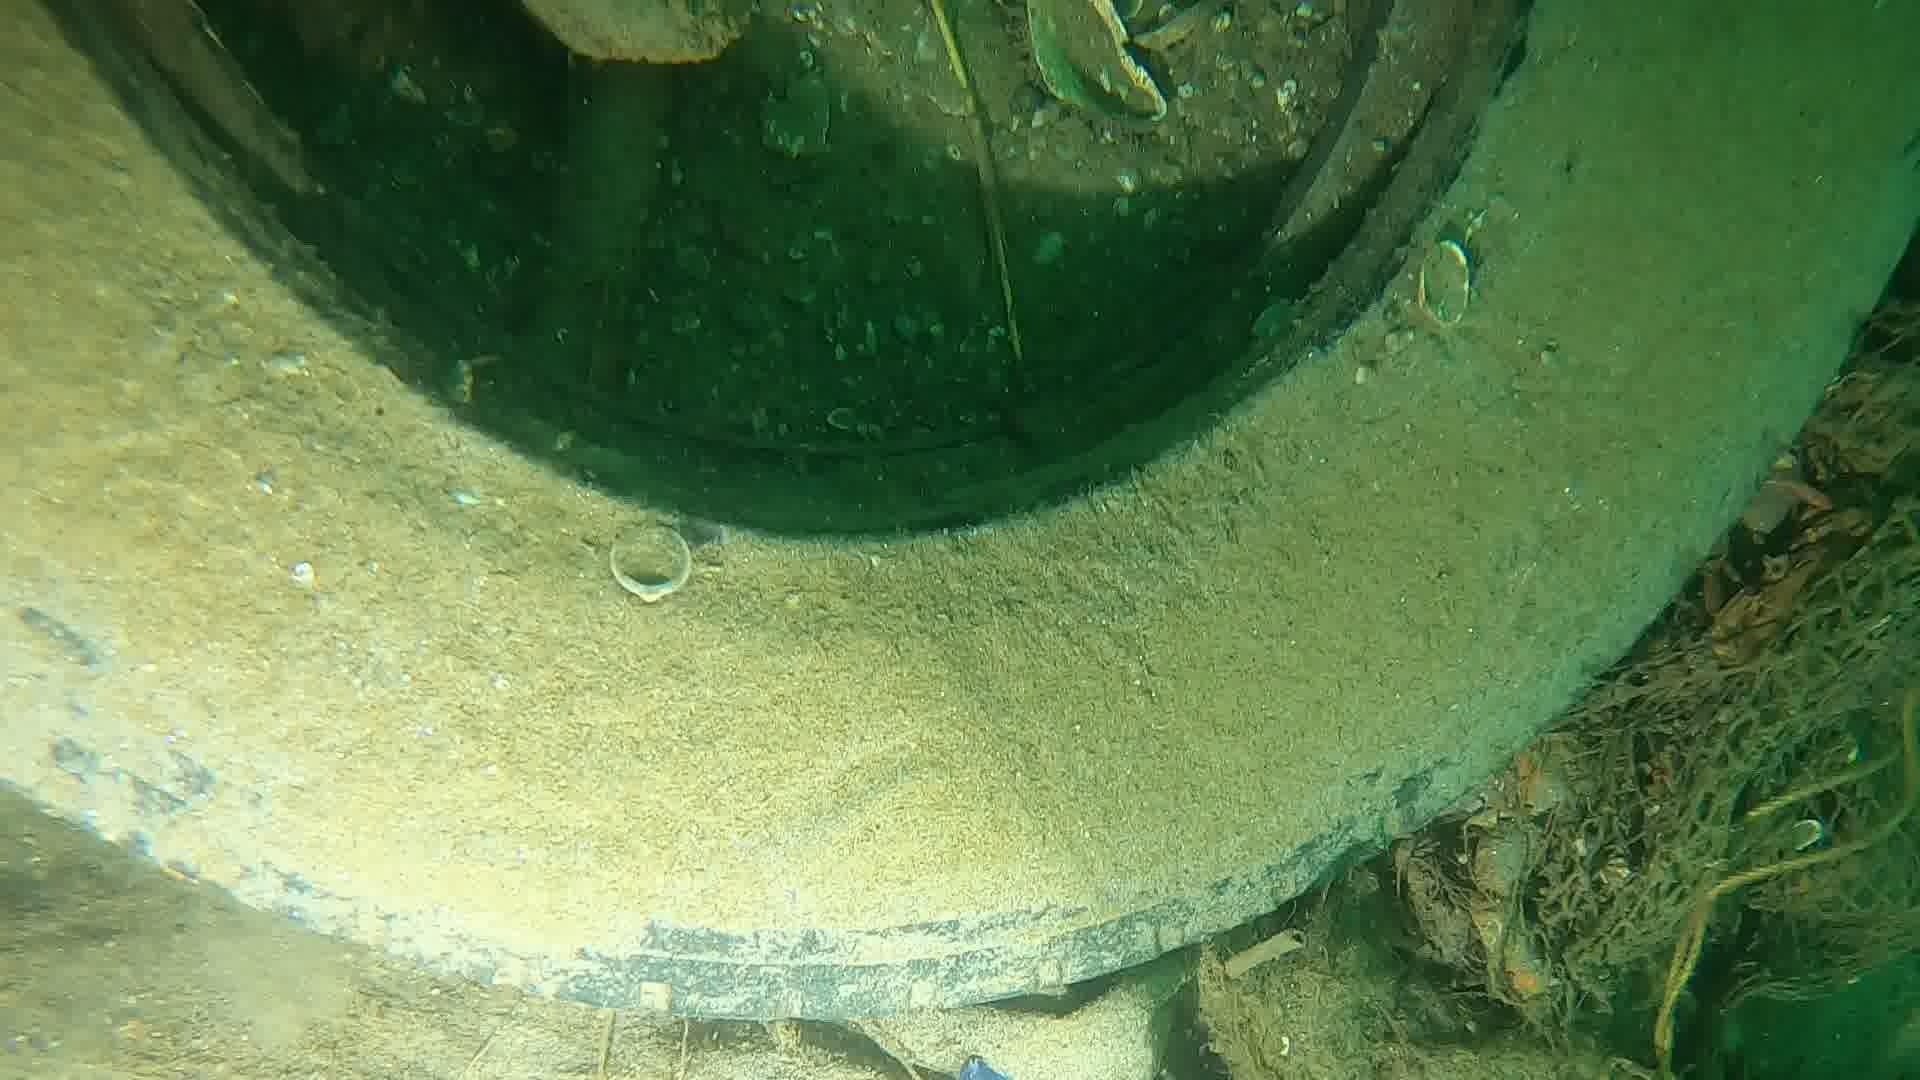fish net: (1514, 556, 1920, 971)
tire: (0, 0, 1920, 1018)
